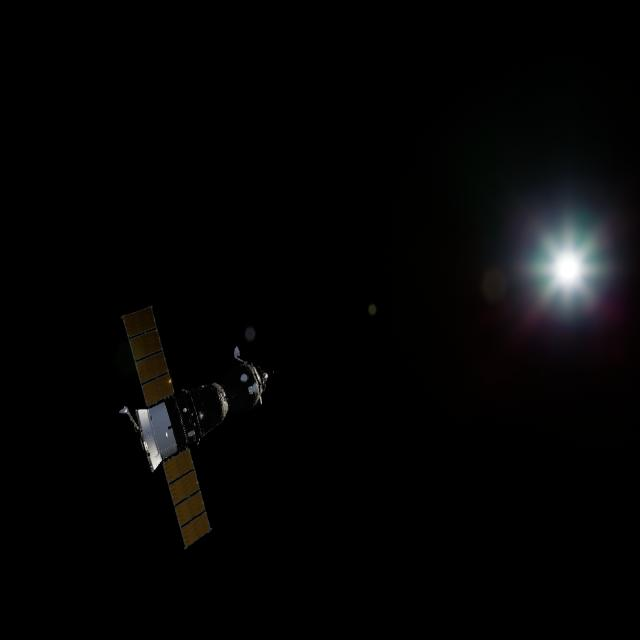Satellites revolving around earth: (116, 303, 270, 552)
